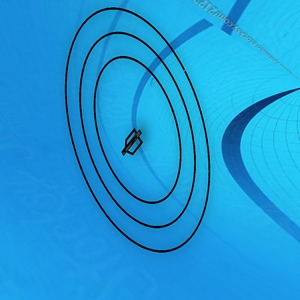circle: (39, 3, 236, 272)
submarine: (124, 127, 146, 158)
